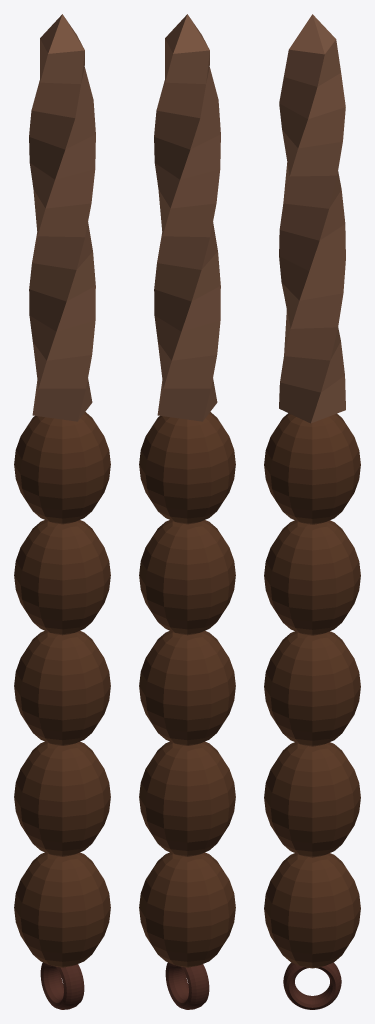
The model's file is Wand 251.glb.
The picture shows the model from 3 angles, left to right: view 1: azimuth 30°, elevation 25°; view 2: azimuth 210°, elevation 25°; view 3: azimuth 270°, elevation 25°; orthographic projection.
Visible parts, largest first — view 1: GeneratedWand; view 2: GeneratedWand; view 3: GeneratedWand.
Boxes of the visible parts, x1=… form: GeneratedWand: x1=14, y1=14, x2=110, y2=1009; GeneratedWand: x1=139, y1=14, x2=235, y2=1009; GeneratedWand: x1=264, y1=14, x2=360, y2=1009.
Size of the model in its own units: 0.0447 by 0.5083 by 0.0449.
